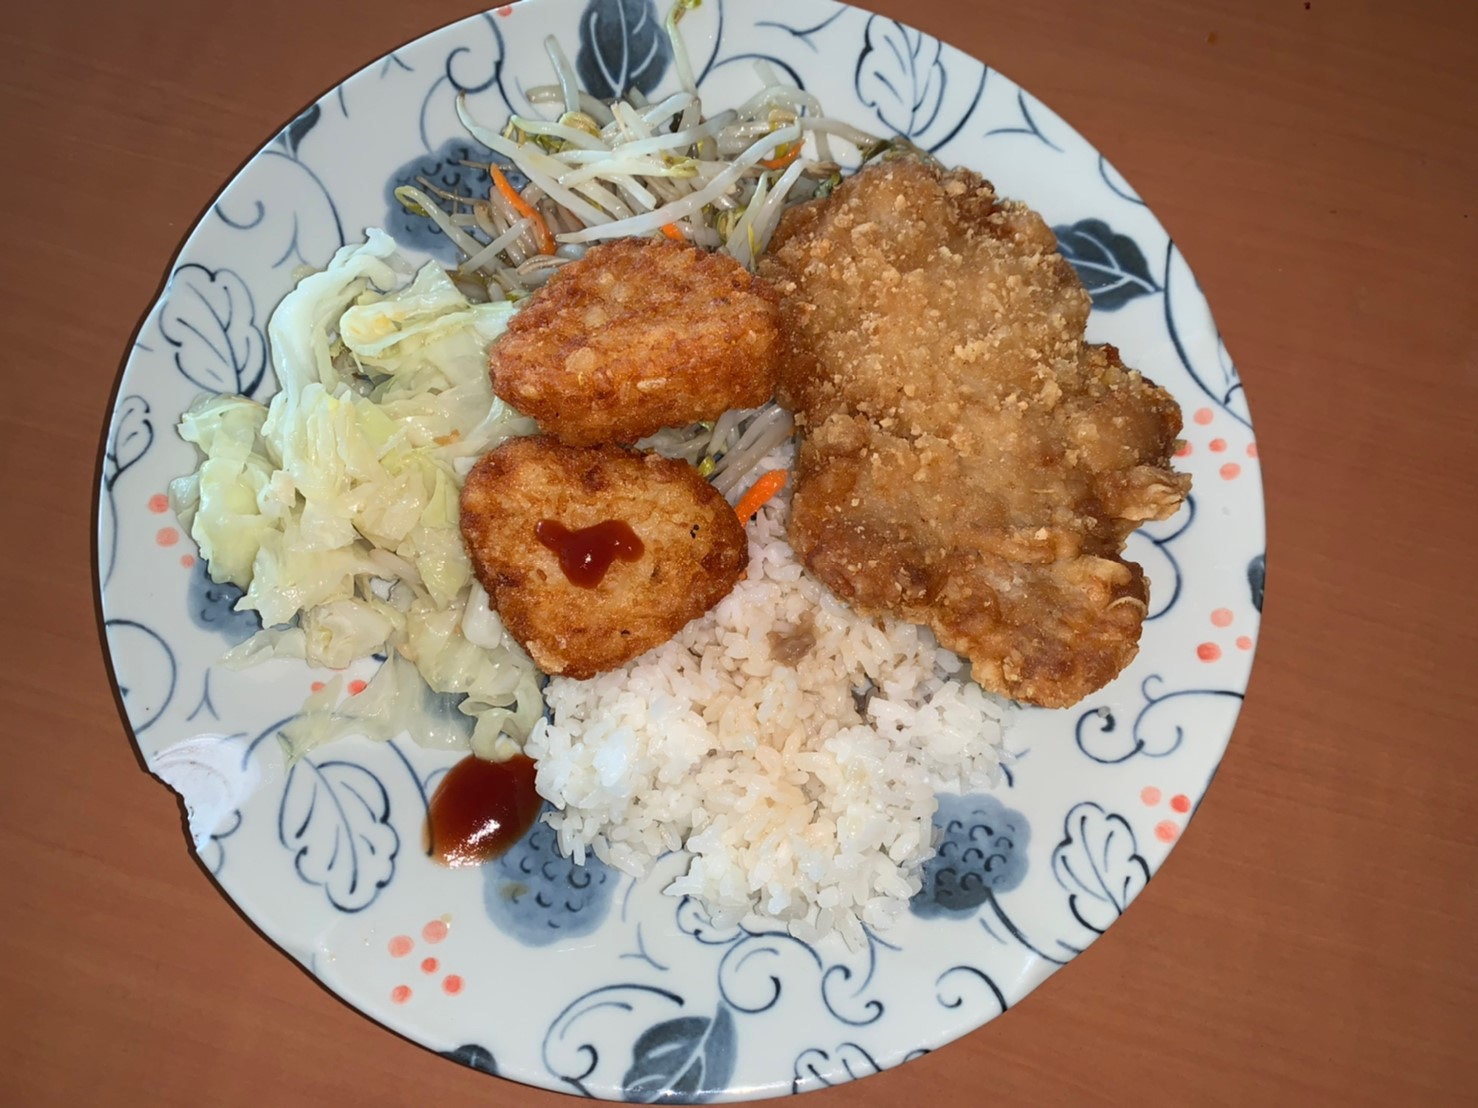chinese_cabbage: (212, 255, 479, 702)
fried_chicken: (818, 207, 1118, 682)
mung_bean_sprouts: (459, 92, 818, 248)
rice: (594, 635, 935, 904)
triangle_hash_brown: (479, 253, 773, 667)
